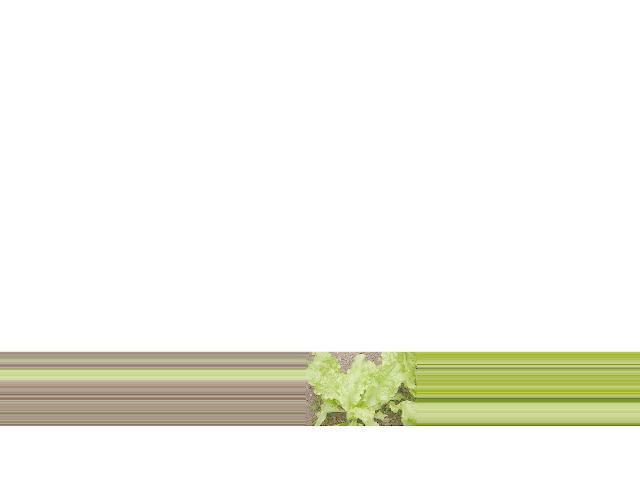lettuce: (306, 355, 417, 431)
